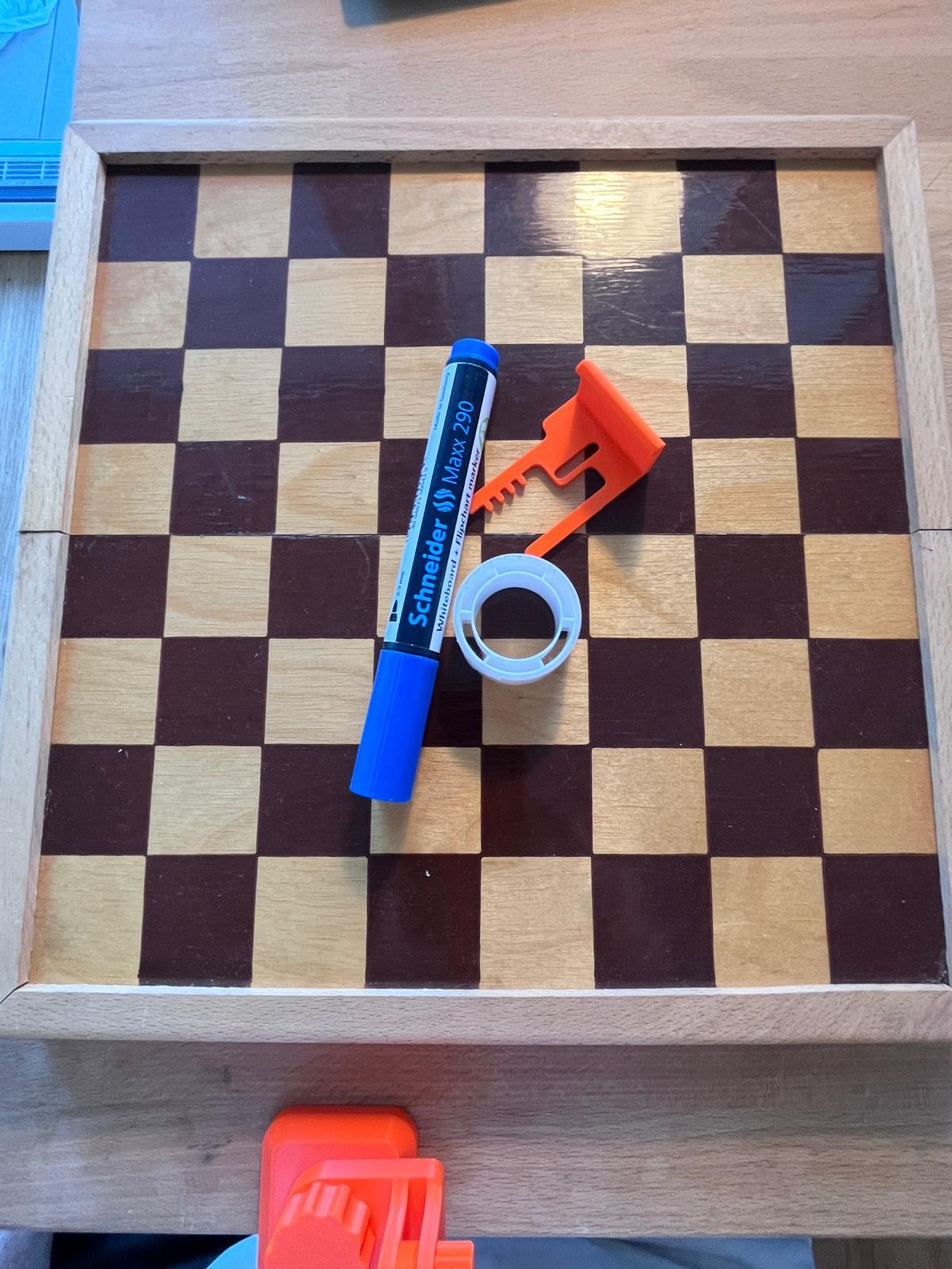clipper: (471, 357, 662, 555)
marker: (346, 336, 505, 806)
tape: (447, 549, 589, 684)
